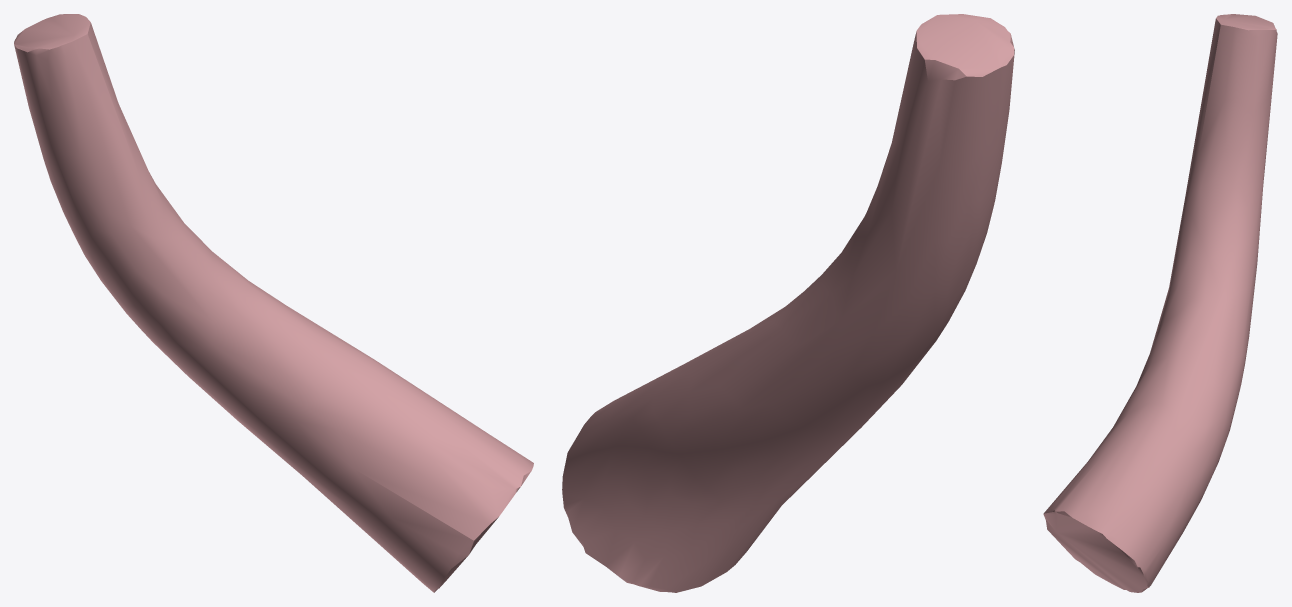
The model's file is fma68216_fj6578.glb.
The picture shows the model from 3 angles, left to right: view 1: azimuth 30°, elevation 25°; view 2: azimuth 150°, elevation 25°; view 3: azimuth 270°, elevation 25°; orthographic projection. The views are drawn at different scales.
Parts seen in each view (by area): view 1: FMA68216_FJ6578; view 2: FMA68216_FJ6578; view 3: FMA68216_FJ6578.
Boxes of the visible parts, x1,y1,x2,y2 form: FMA68216_FJ6578: [14, 14, 533, 592]; FMA68216_FJ6578: [562, 14, 1014, 592]; FMA68216_FJ6578: [1043, 14, 1277, 592].
Size of the model in its own units: 0.0135 by 0.0174 by 0.00809.
